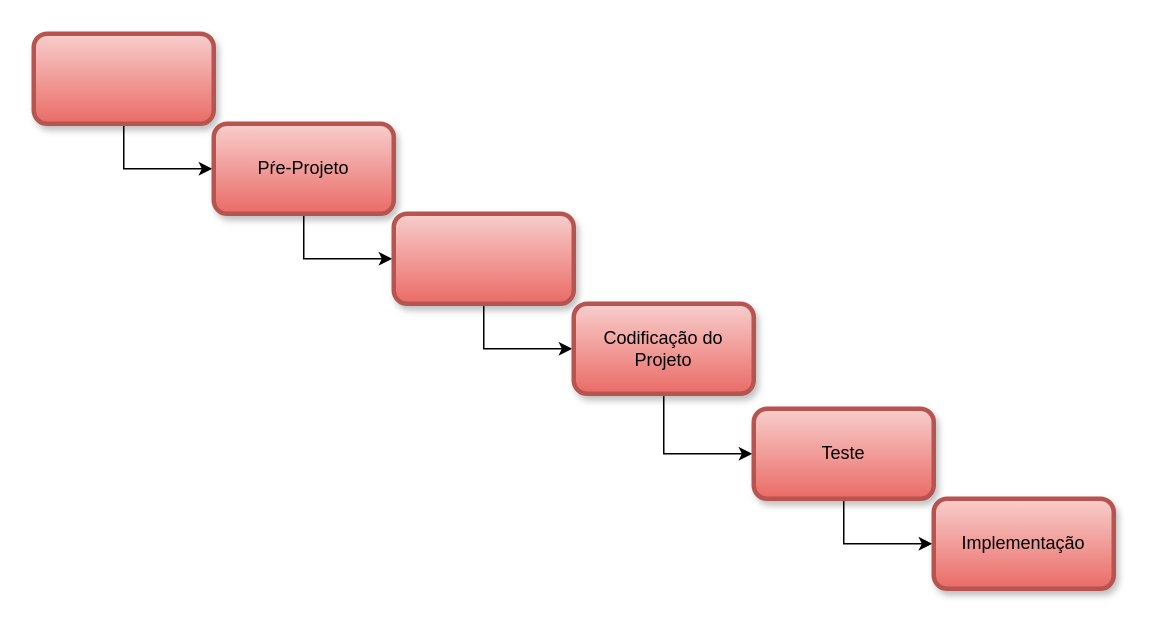
Image size: 1151x627. Some labels were removed from this diagram. The centre of each missing label's shape, as x and y in pixels:
"Análise" belongs at (x=484, y=260).
"Proposta de Projeto" belongs at (x=124, y=80).
